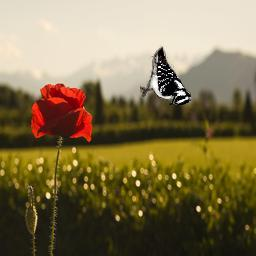Woodpecker: (141, 45, 192, 105)
